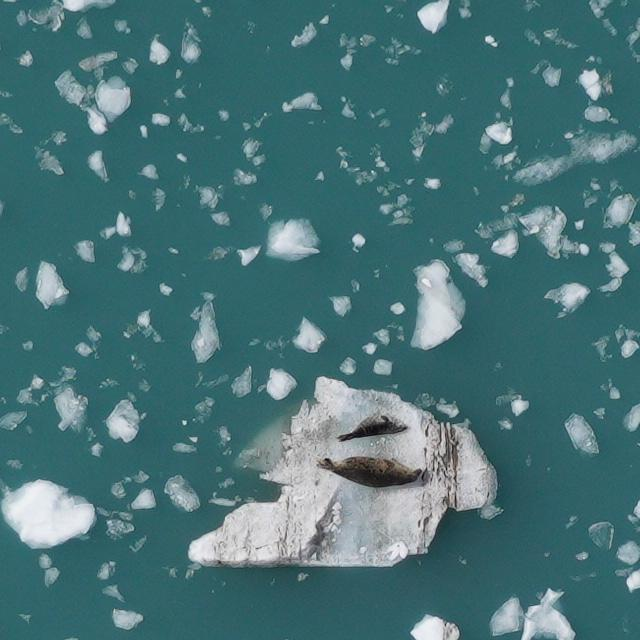seal: (315, 452, 424, 493), (335, 409, 412, 443)
